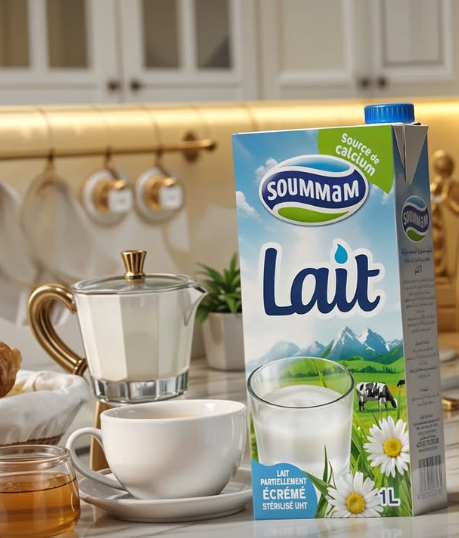soummam_milk: (226, 100, 453, 521)
